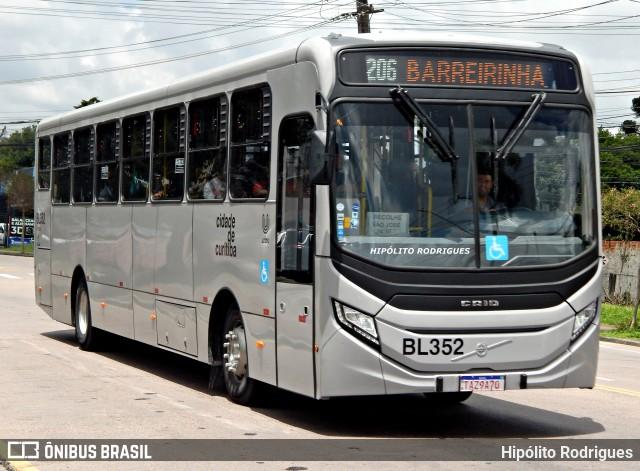BARREIRINHA: (402, 56, 549, 89)
